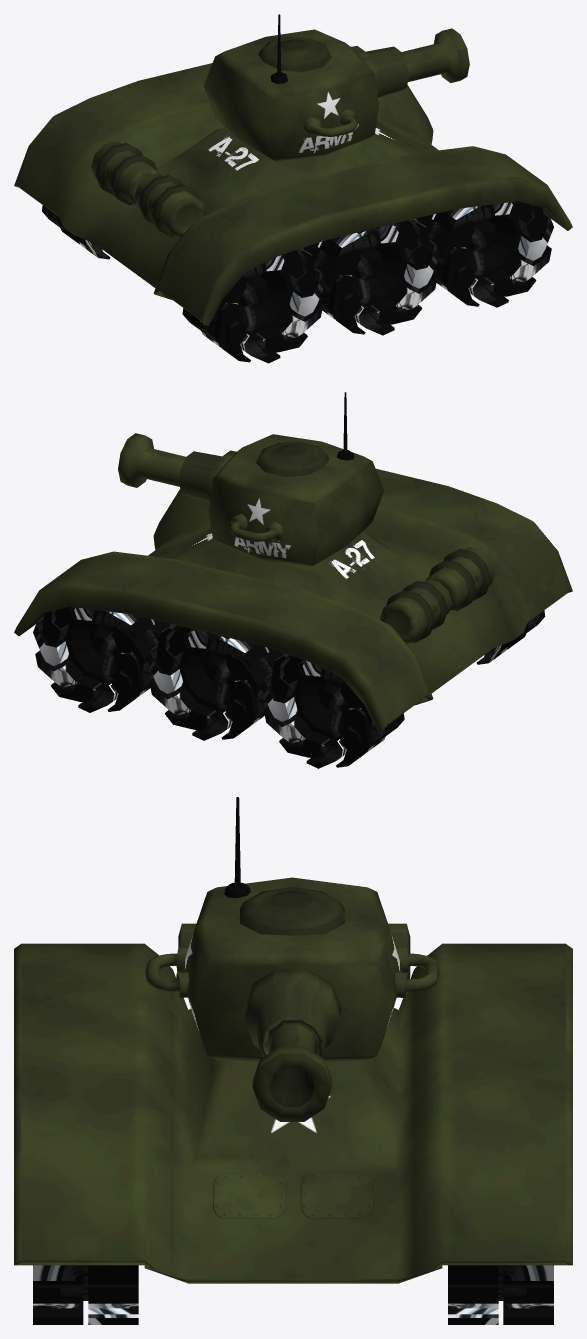
Rendered from tank.fbx.
The picture shows the model from 3 angles, top to bottom: view 1: azimuth 30°, elevation 25°; view 2: azimuth 150°, elevation 25°; view 3: azimuth 270°, elevation 25°; orthographic projection. The views are drawn at different scales.
Parts seen in each view (by area): view 1: body, Cannon, Right_Wheel_Middle, Right_Wheel_Front, Right_Wheel_Back, barrels, Left_Wheel_Back; view 2: body, Cannon, Left_Wheel_Middle, Left_Wheel_Front, Left_Wheel_Back, barrels, Right_Wheel_Back; view 3: body, Cannon, Left_Wheel_Front, Right_Wheel_Front, barrels.
Boxes of the visible parts, left/top/right/bottom form: body: left=14, top=63, right=572, bottom=326; Cannon: left=203, top=14, right=469, bottom=161; Right_Wheel_Middle: left=303, top=219, right=439, bottom=335; Right_Wheel_Front: left=415, top=201, right=553, bottom=307; Right_Wheel_Back: left=182, top=248, right=325, bottom=363; barrels: left=91, top=141, right=206, bottom=238; Left_Wheel_Back: left=42, top=205, right=110, bottom=259; body: left=14, top=468, right=572, bottom=731; Cannon: left=118, top=392, right=383, bottom=566; Left_Wheel_Middle: left=147, top=624, right=284, bottom=740; Left_Wheel_Front: left=33, top=606, right=171, bottom=712; Left_Wheel_Back: left=261, top=653, right=404, bottom=768; barrels: left=380, top=547, right=495, bottom=643; Right_Wheel_Back: left=476, top=610, right=545, bottom=664; body: left=14, top=943, right=572, bottom=1283; Cannon: left=145, top=797, right=439, bottom=1121; Left_Wheel_Front: left=448, top=1265, right=553, bottom=1324; Right_Wheel_Front: left=33, top=1265, right=138, bottom=1324; barrels: left=178, top=923, right=410, bottom=978.
Size of the model in its own units: 0.3148 by 0.2265 by 0.2793.
